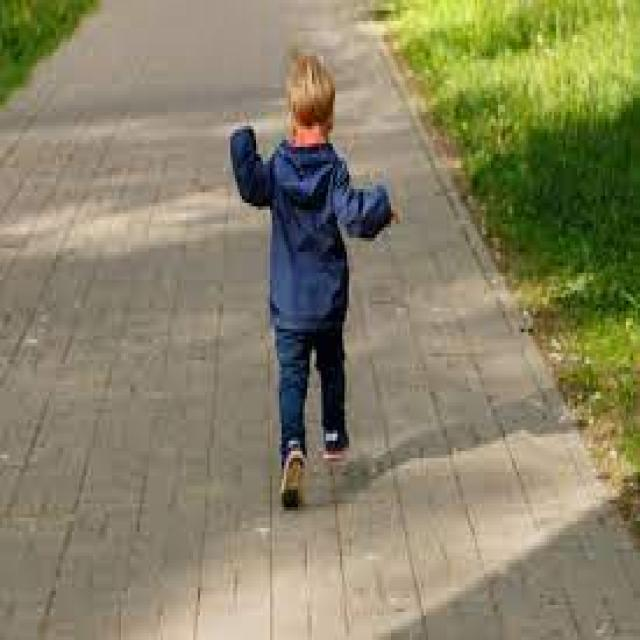Person: (228, 52, 400, 512)
